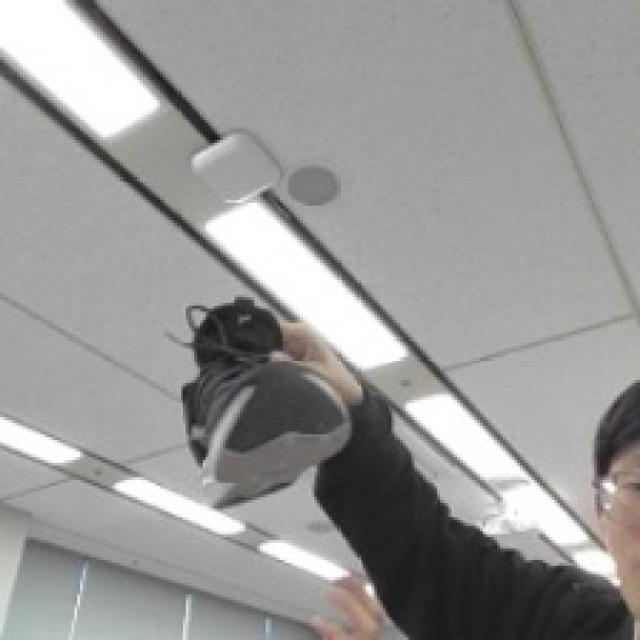shoes: (153, 264, 350, 526)
